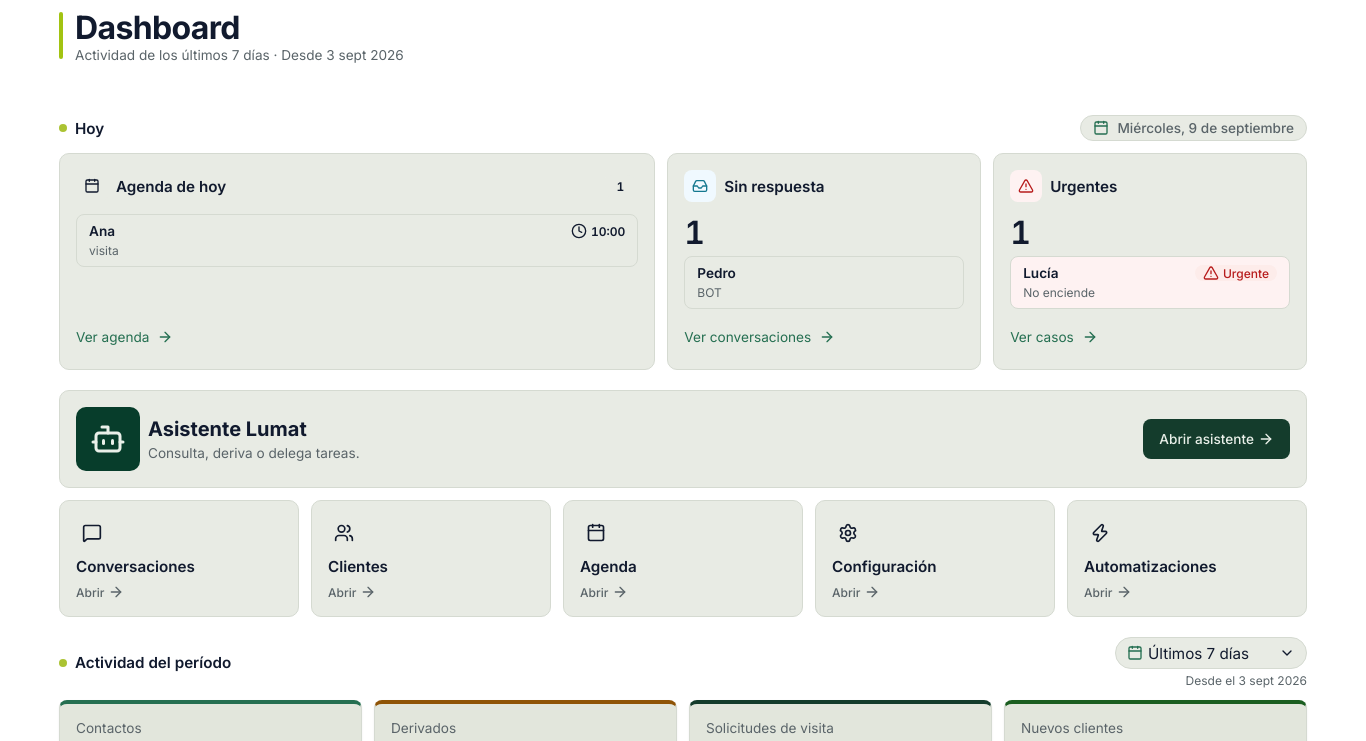
Test: Dashboard operational surface › refetches KPI and trend data when the activity period changes
Select "Últimos 14 días" in the dropdown named "Período de actividad": coordinates (1211, 653) 1115,637 -> 1307,669
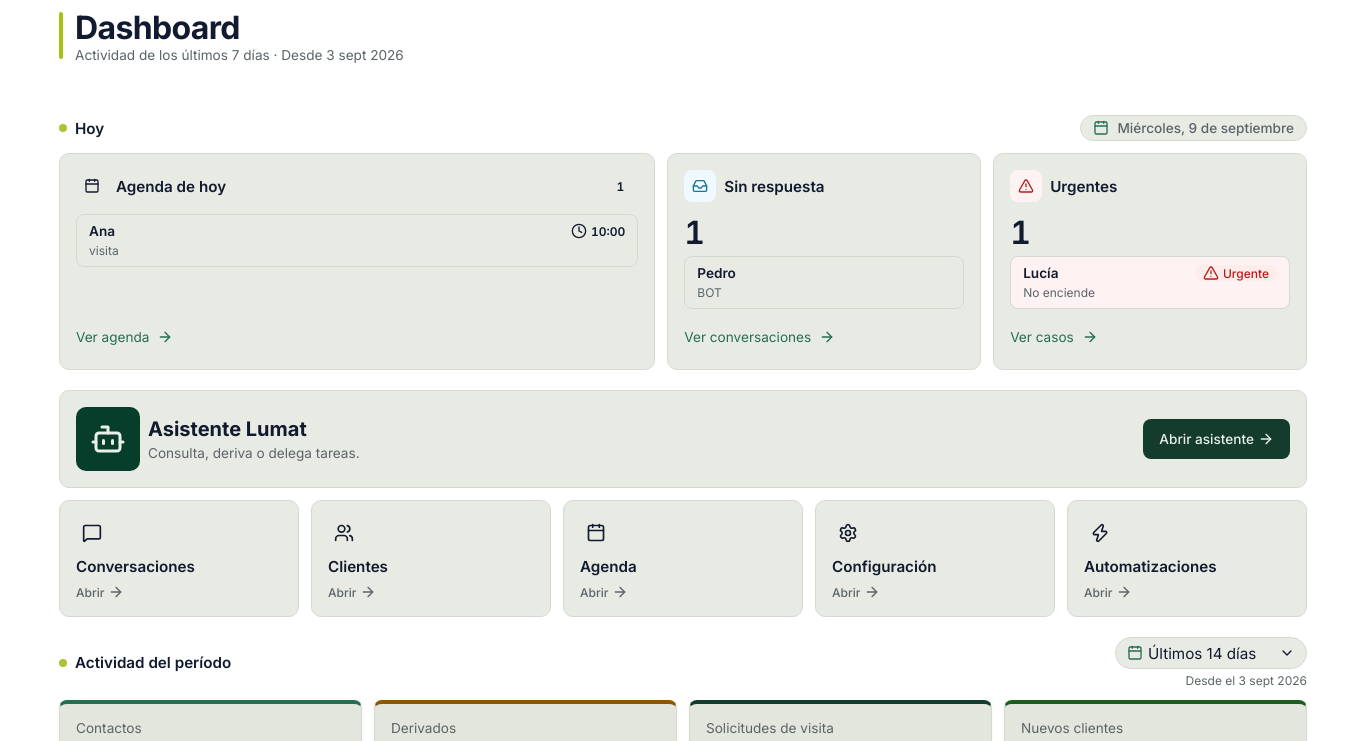
Expected: the text "Desde el 3 sept 2026" is shown, 1186,673 -> 1307,688
Expected: the dropdown named "Período de actividad" shows "Últimos 14 días", 1115,637 -> 1307,669
